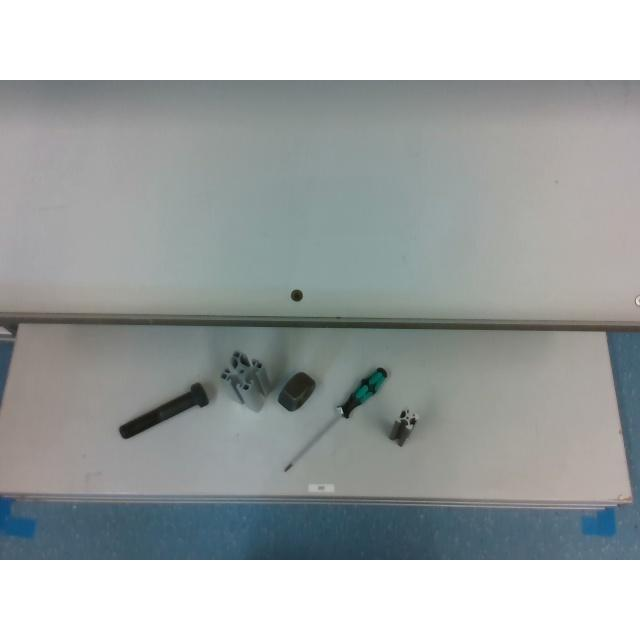F20_20_B: (388, 409, 418, 446)
M20_100: (120, 382, 208, 438)
M30: (278, 371, 314, 411)
S40_40_G: (220, 351, 268, 411)
Screwdriver: (278, 368, 388, 472)
